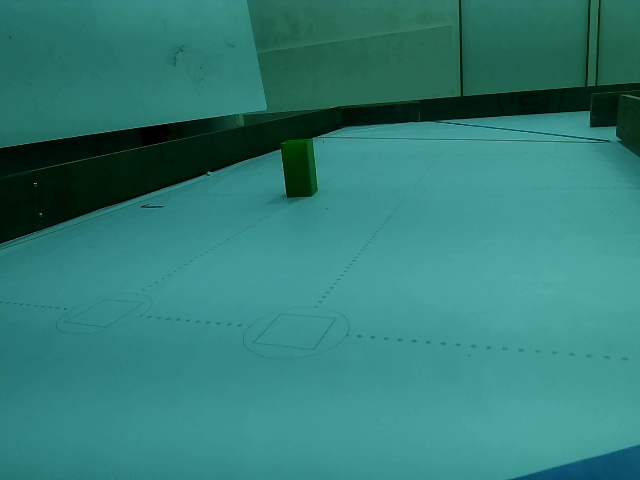green: (280, 139, 317, 196)
